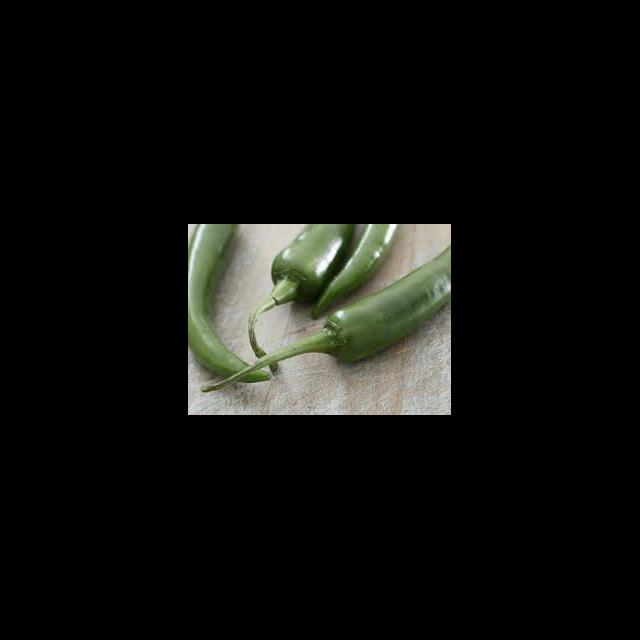chili_pepper: (248, 224, 398, 338), (322, 242, 451, 364), (188, 225, 240, 344)
